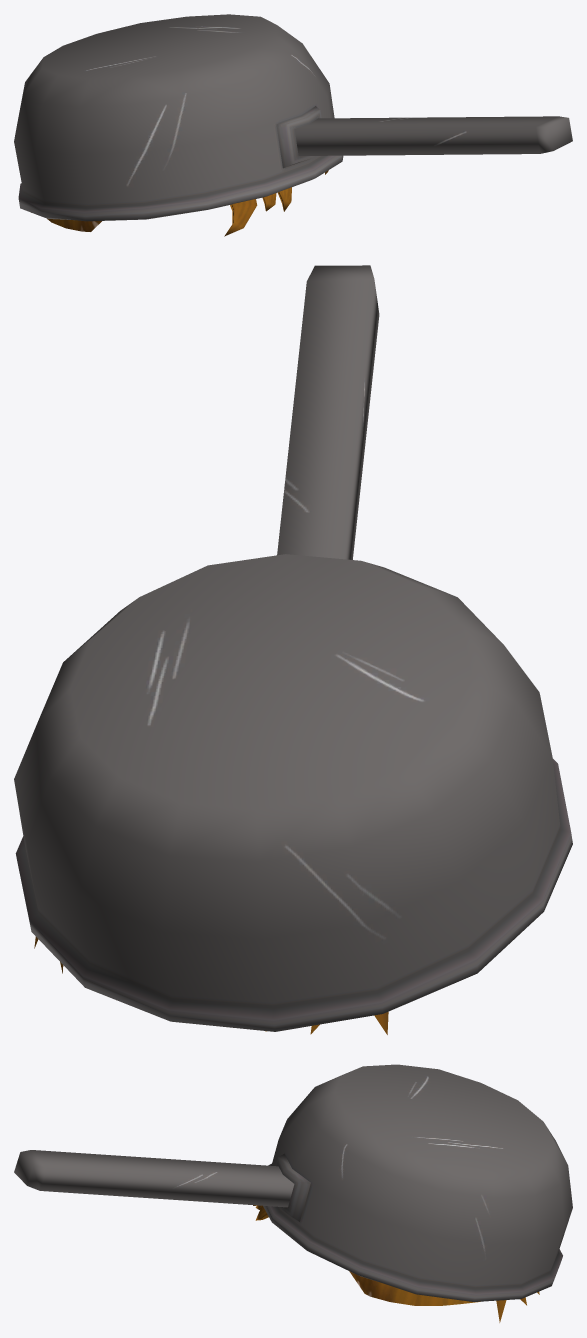
File: crazydave_olla.obj
The picture shows the model from 3 angles, top to bottom: view 1: azimuth 30°, elevation 25°; view 2: azimuth 150°, elevation 25°; view 3: azimuth 270°, elevation 25°; orthographic projection. The views are drawn at different scales.
Visible parts, largest first — view 1: crazydave_olla; view 2: crazydave_olla; view 3: crazydave_olla.
Part boxes in pixels (x1,y1,x2,y2): crazydave_olla: [14, 14, 572, 236]; crazydave_olla: [14, 265, 572, 1034]; crazydave_olla: [14, 1064, 572, 1322].
Bounding box in the file's own units: 0.4187 × 0.25 × 0.6453.
